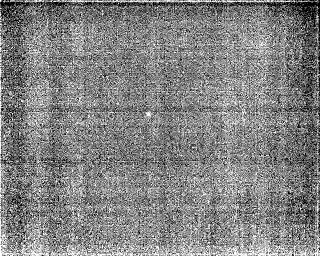BIRD: (144, 109, 153, 120)
